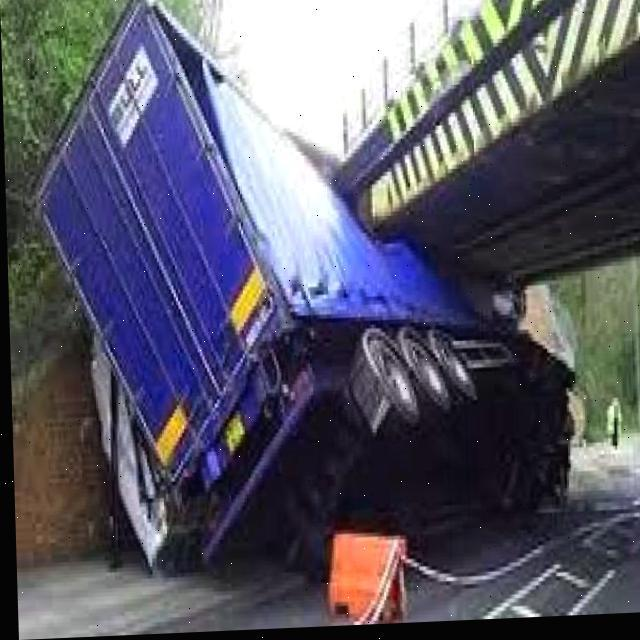single accident: (23, 0, 636, 620)
